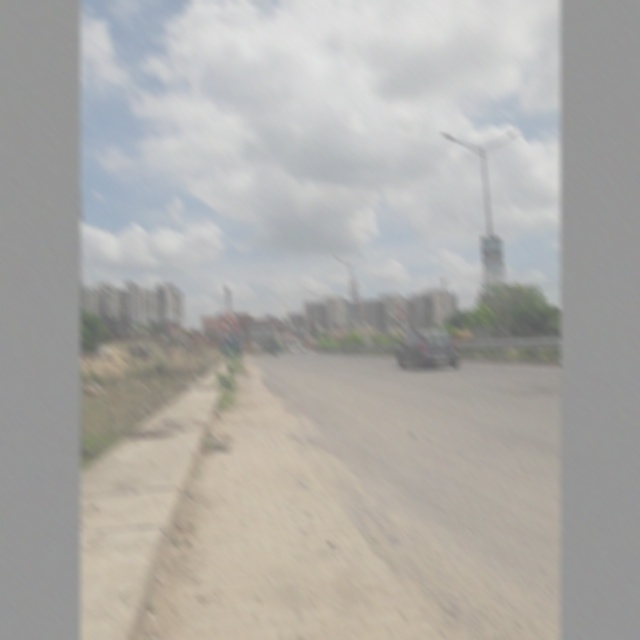Left_Reverse_Bend: (215, 311, 243, 335)
